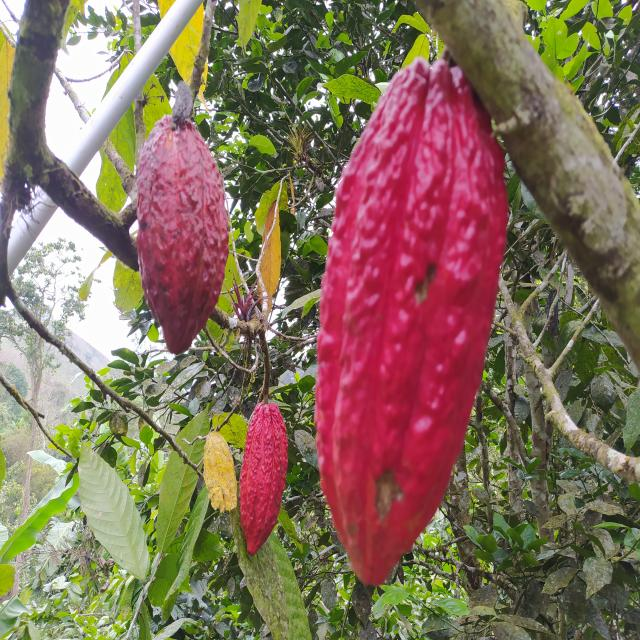Sana: (314, 63, 510, 589), (134, 112, 228, 356), (238, 401, 288, 555)
